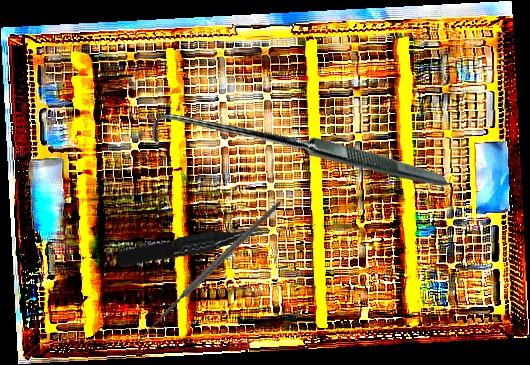Hook Surgical: (144, 2, 450, 311), (113, 200, 307, 353)
Tissue Forceps: (116, 224, 267, 268)
